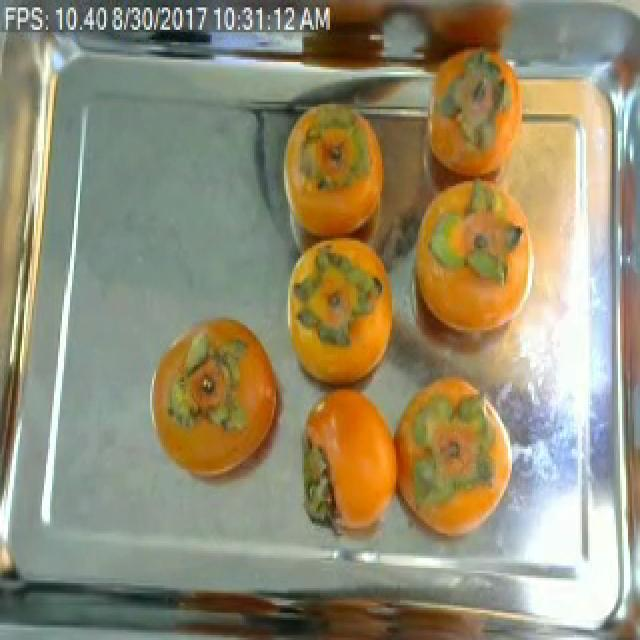Fruit: (140, 302, 296, 503), (386, 360, 524, 548), (278, 226, 396, 409), (270, 97, 396, 253)
